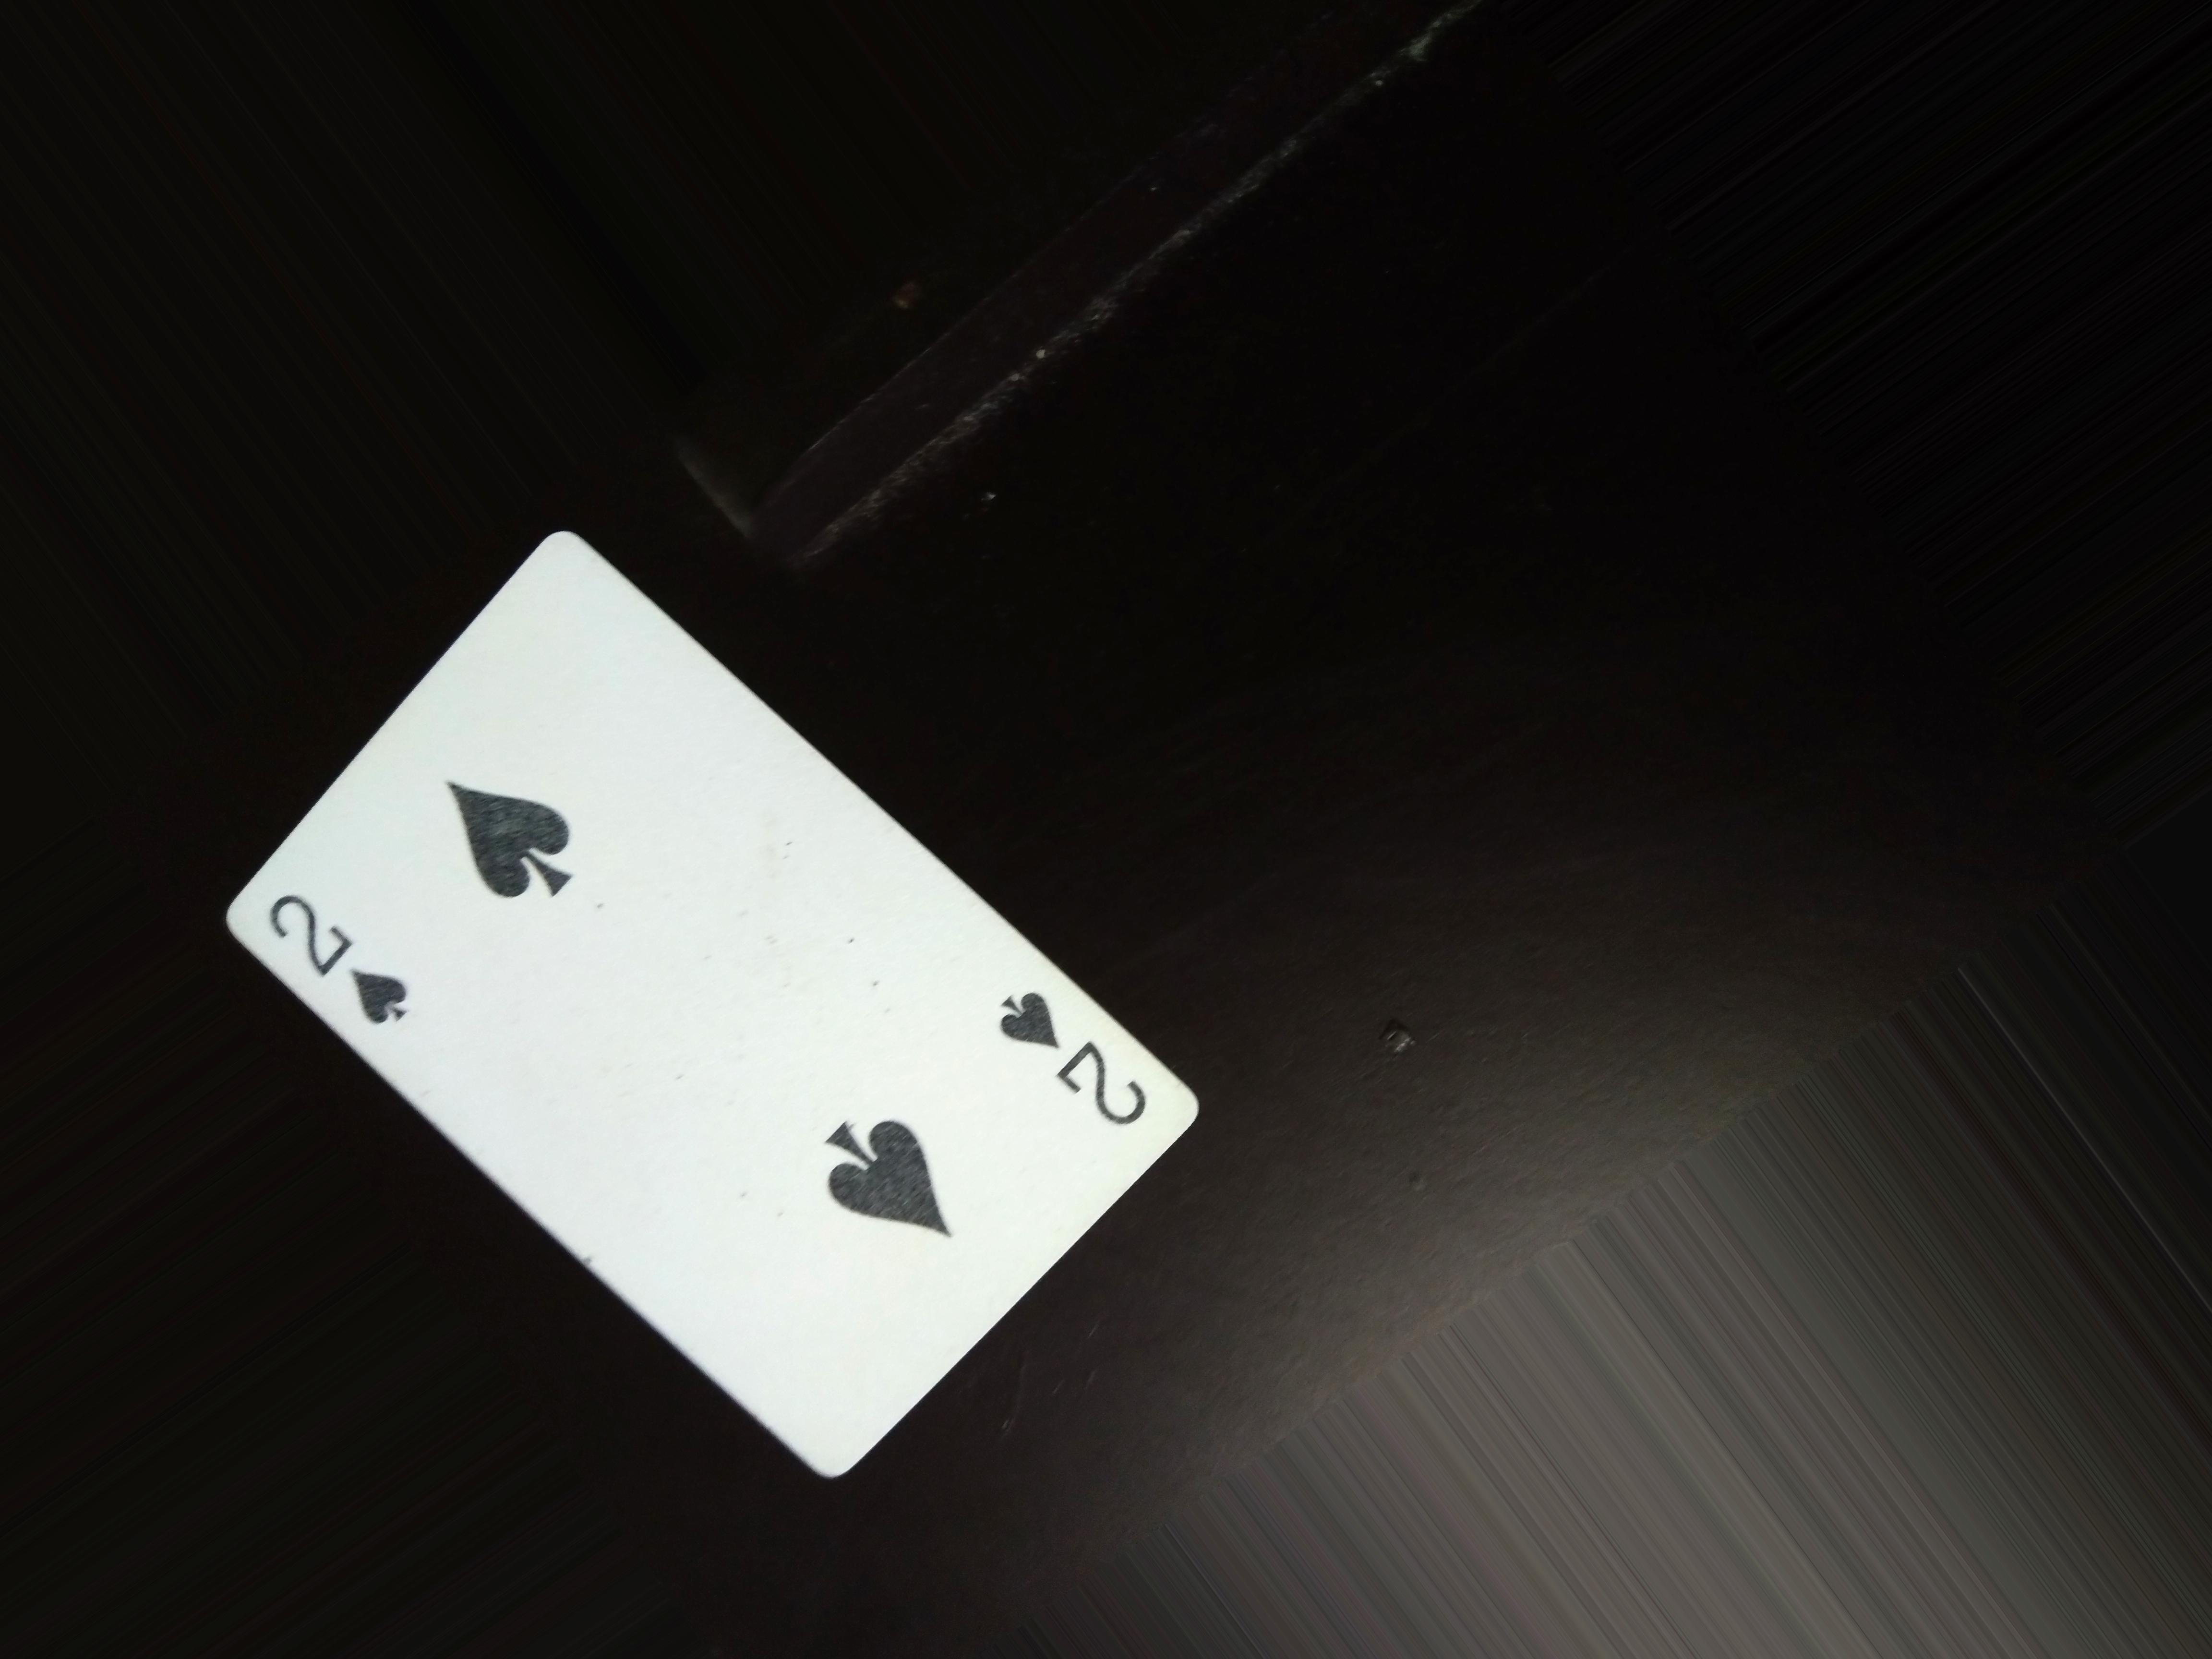2S: (232, 870, 430, 1039)
